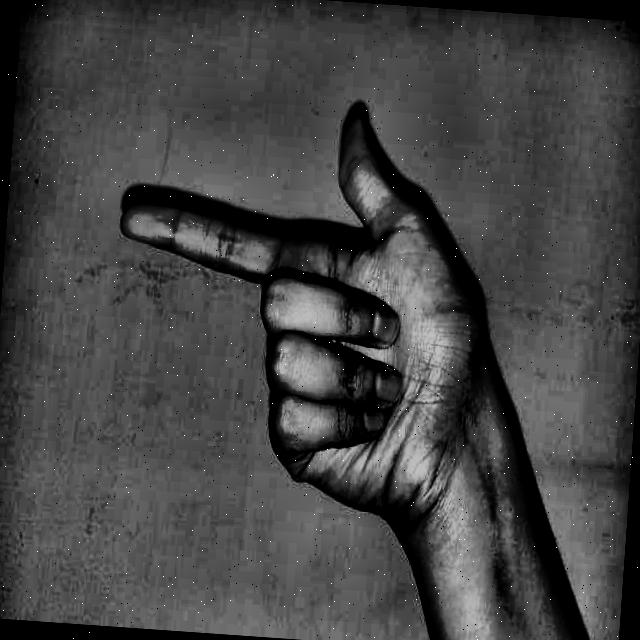Tho: (75, 46, 598, 566)
